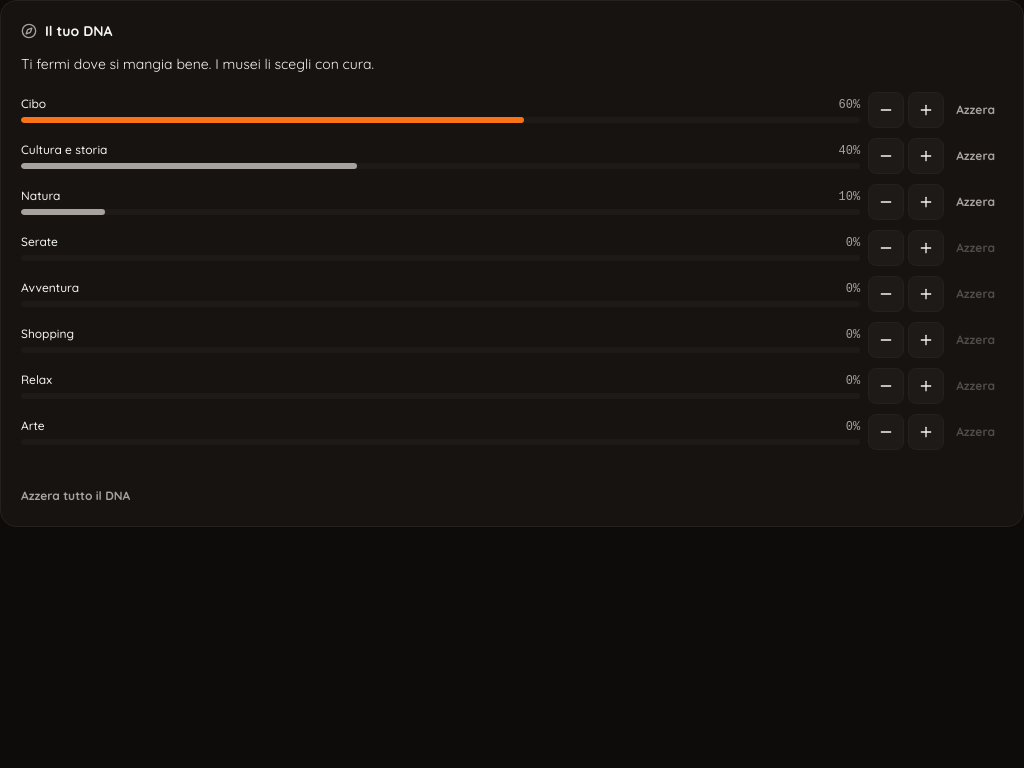
it: DNA-6 — Il tuo DNA › «Azzera» di una categoria; «Azzera tutto» chiede conferma e azzera solo le categorie con peso
This screenshot has width=1024, height=768.
Click the button with aria-label "Azzera cibo". click: (976, 110)
box: [948,92,1003,128]
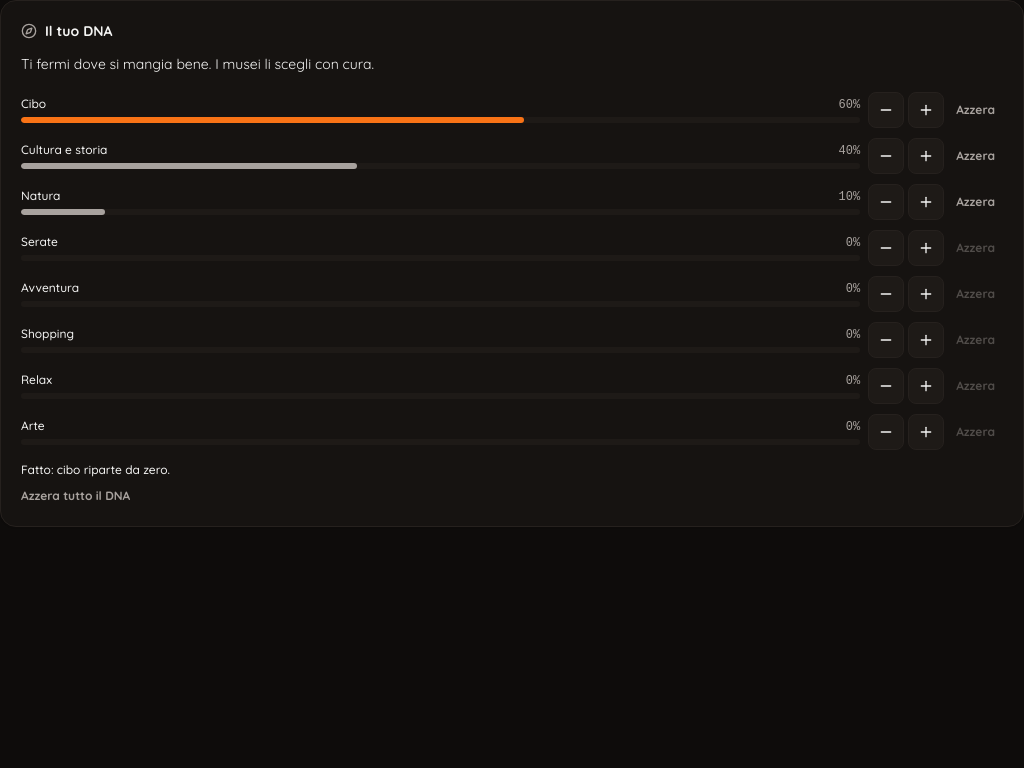
Click the button "Azzera tutto il DNA". click: (76, 496)
box: [21,488,130,504]
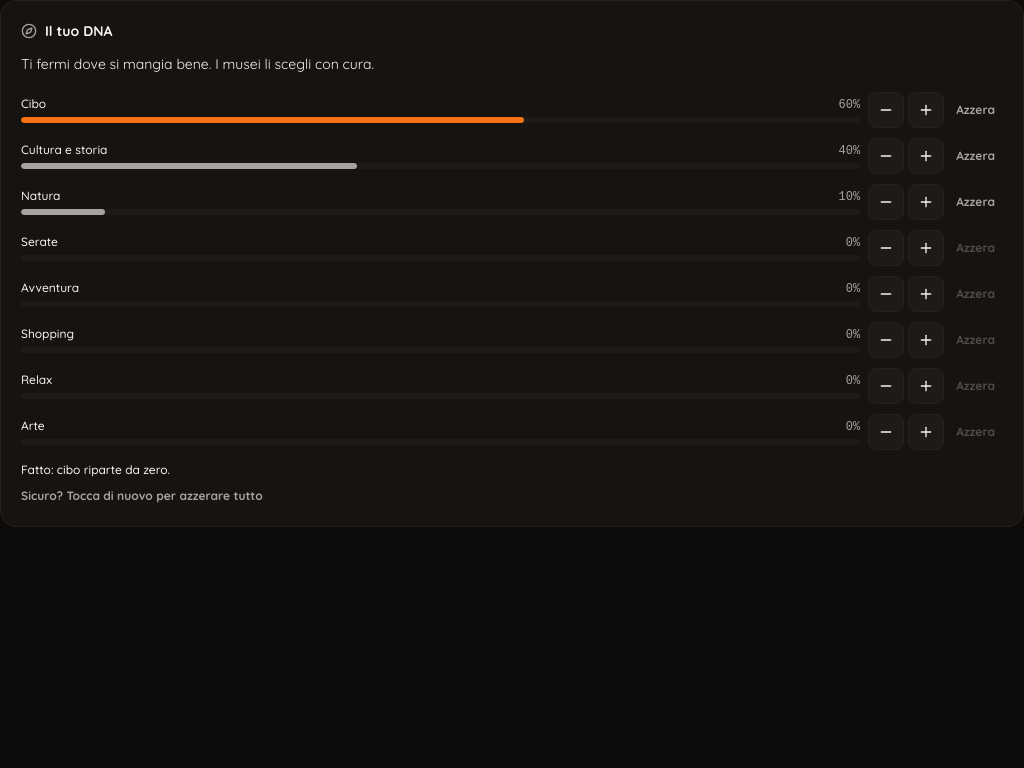
Click the button "Sicuro? Tocca di nuovo per azzerare tutto". click: (142, 496)
box: [21,488,263,504]
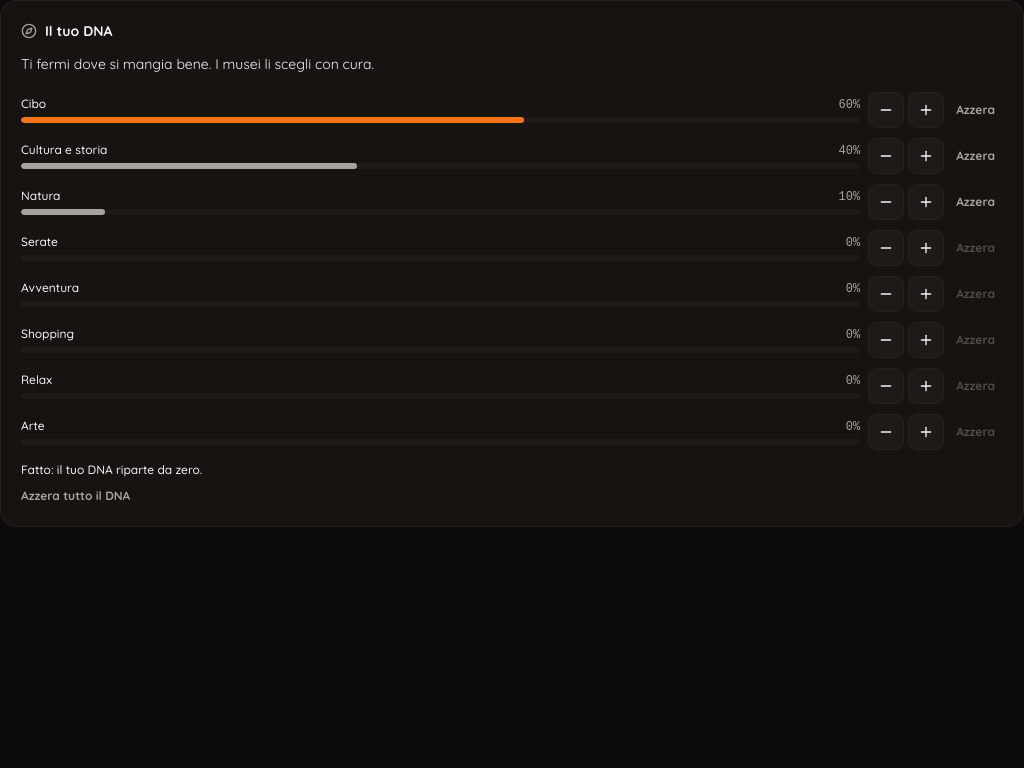
Expected: the text with test id "dna-esito" reads "Fatto: il tuo DNA riparte da zero.", [21,462,202,477]
